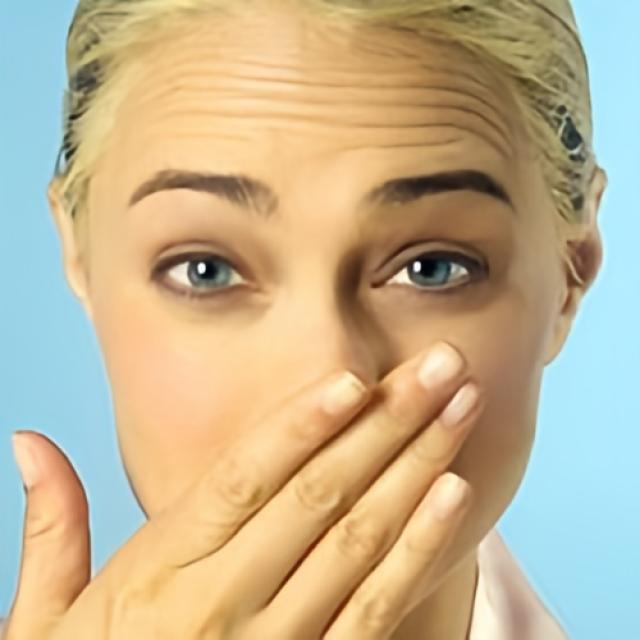surprise: (99, 10, 552, 618)
